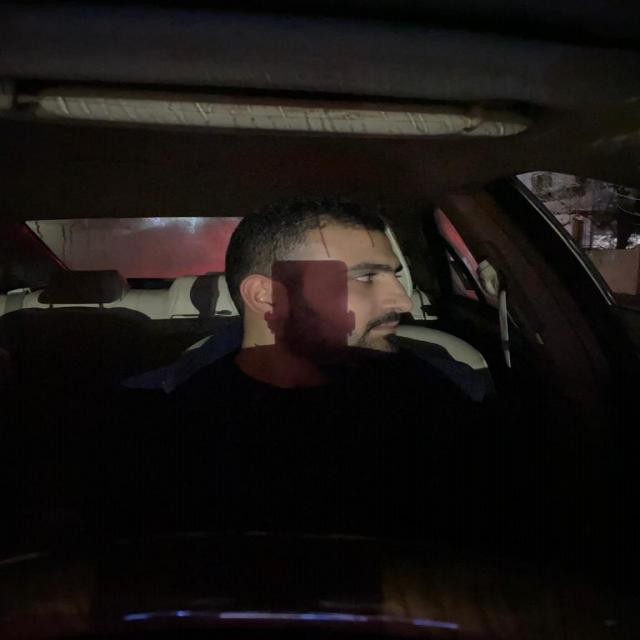LeftRight: (223, 192, 417, 372)
